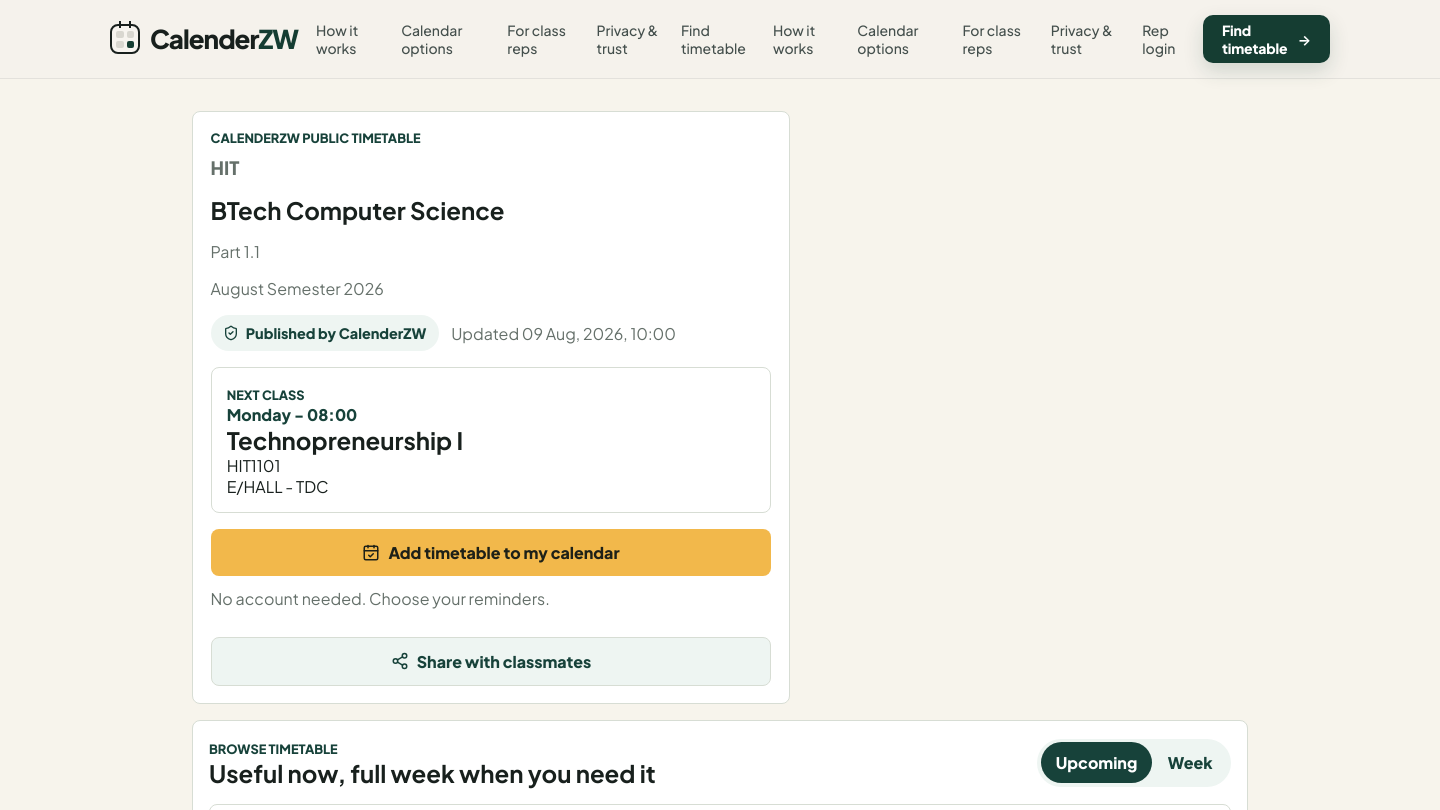
Scenario: public student flow › shows honest Android delivery copy without claiming one-tap Google Calendar subscription
Click the button "Add timetable to my calendar": (491, 553) top-left (211, 529), bottom-right (771, 576)
(page scrolled)
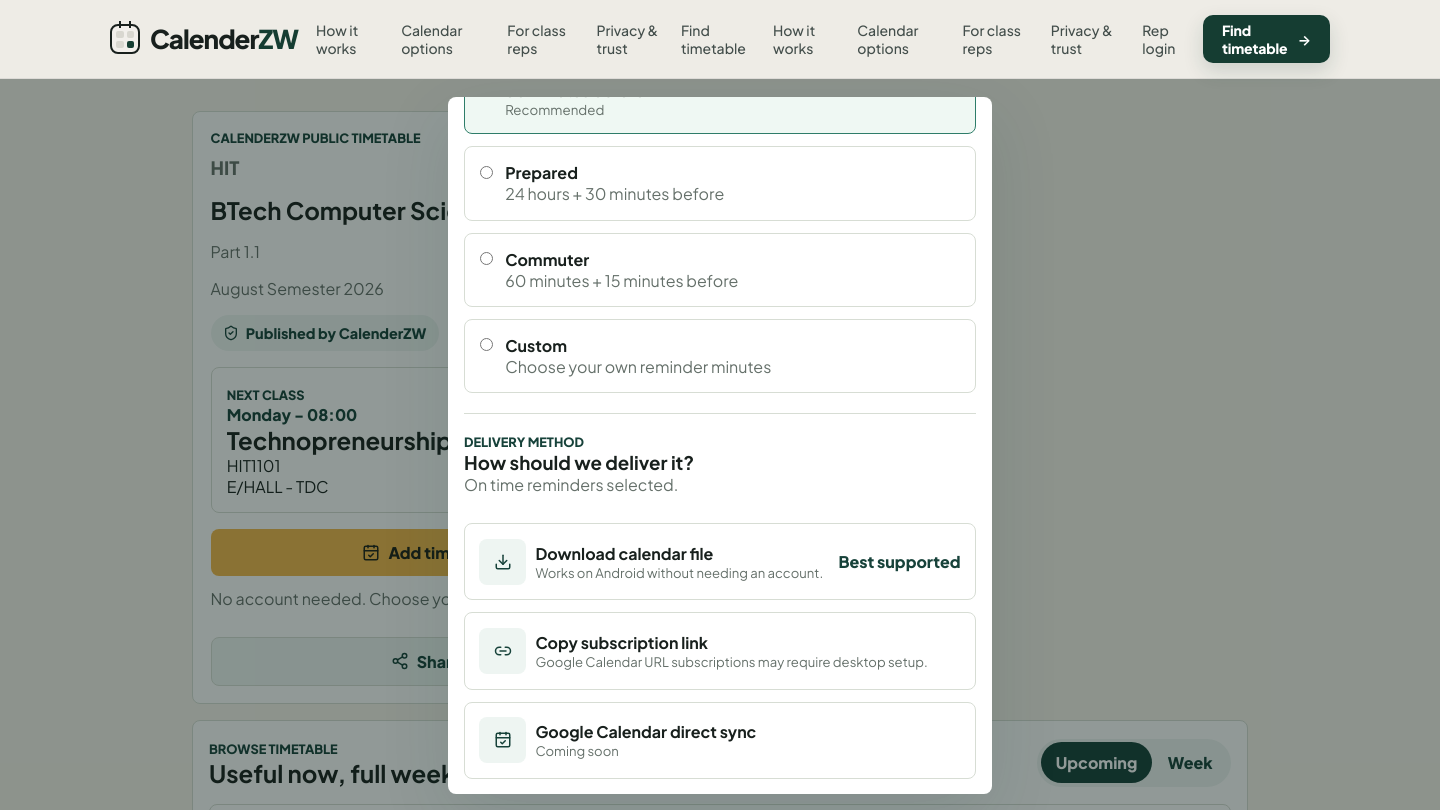
Expected: the button "Download calendar file" is shown, top-left (464, 523), bottom-right (976, 600)
Expected: the button "Copy subscription link" is shown, top-left (464, 612), bottom-right (976, 690)
Expected: the text "Google Calendar direct sync" is shown, top-left (535, 721), bottom-right (756, 742)
